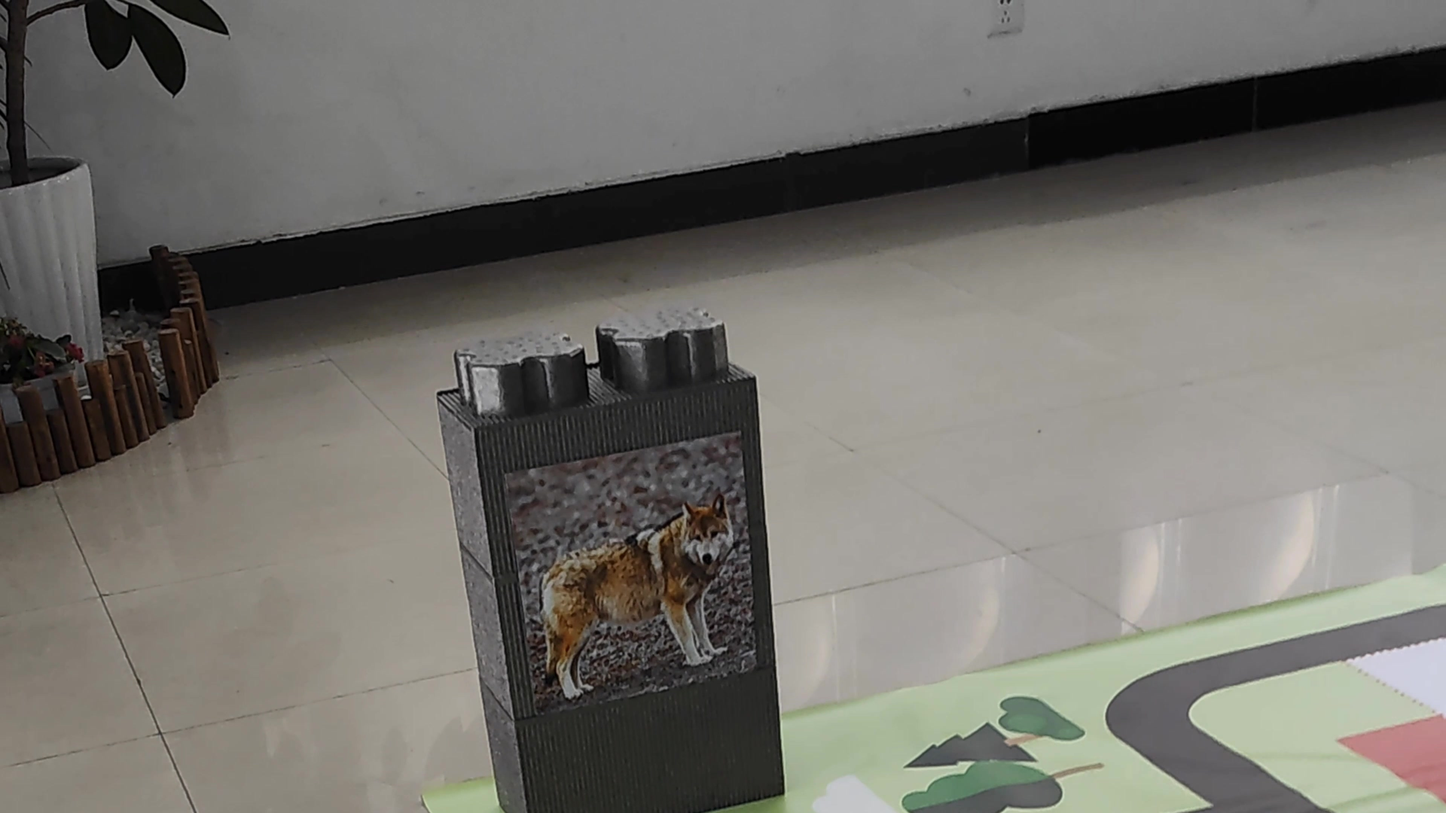wolf: (535, 480, 739, 681)
